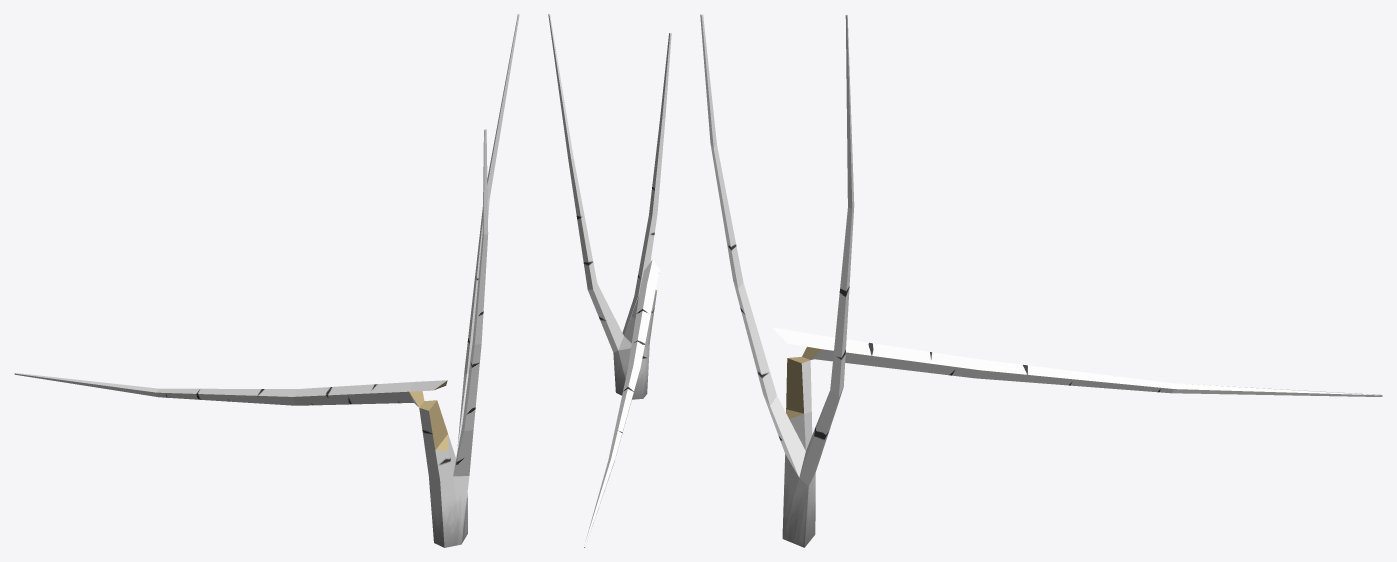
File: Birch_Tree_NoLeaves_crk_m_BT_03.fbx
3 views of the same model, side by side, from view 1: azimuth 30°, elevation 25°; view 2: azimuth 150°, elevation 25°; view 3: azimuth 270°, elevation 25° (orthographic). The views are drawn at different scales.
Visible parts, largest first — view 1: Birch_Tree_NoLeaves_crk_m_BT_03; view 2: Birch_Tree_NoLeaves_crk_m_BT_03; view 3: Birch_Tree_NoLeaves_crk_m_BT_03.
Boxes of the visible parts, x1,y1,x2,y2 form: Birch_Tree_NoLeaves_crk_m_BT_03: (14,14,519,547); Birch_Tree_NoLeaves_crk_m_BT_03: (548,14,671,547); Birch_Tree_NoLeaves_crk_m_BT_03: (700,14,1382,547).
Bounding box in the file's own units: 290 × 491 × 531.
